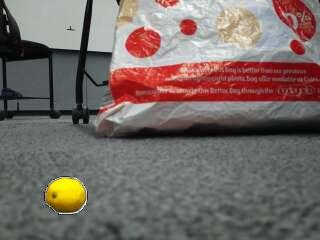lemon: (47, 179, 86, 213)
